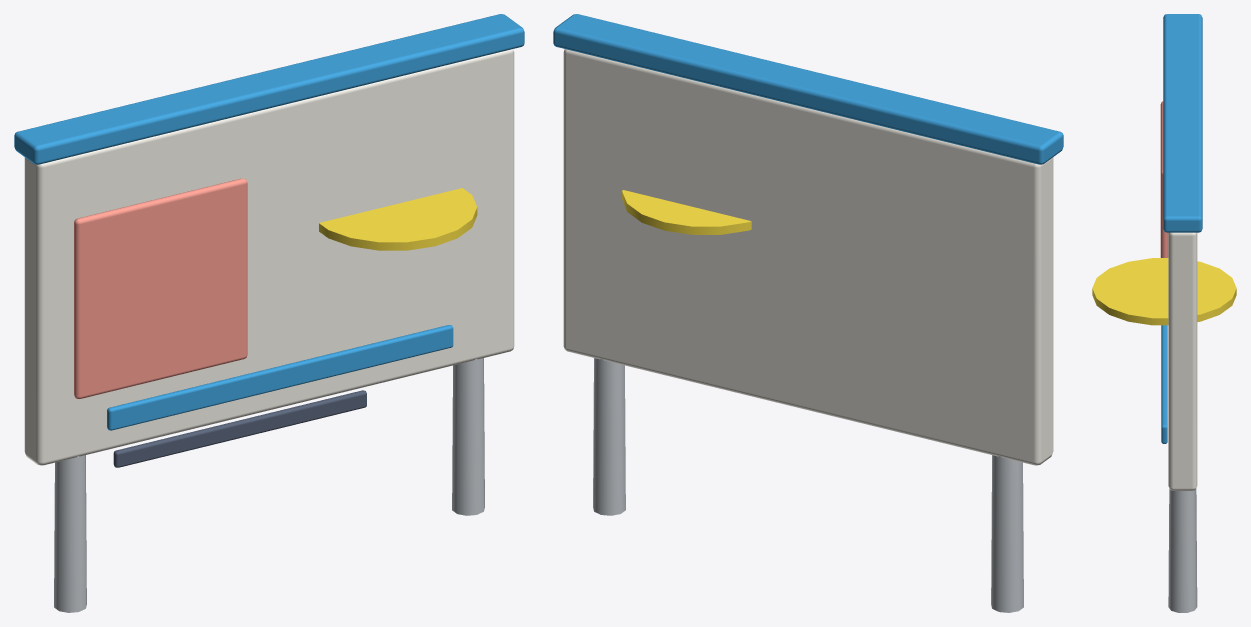
File: hero-shooter-harbour-payload-mural-billboard-panel-6fdadd3c__27718.glb
3 renders of one model, left to right at view 1: azimuth 30°, elevation 25°; view 2: azimuth 150°, elevation 25°; view 3: azimuth 270°, elevation 25°, orthographic. The views are drawn at different scales.
Visible parts, largest first — view 1: mural-billboard-panel; view 2: mural-billboard-panel; view 3: mural-billboard-panel.
Boxes of the visible parts, x1,y1,x2,y2 form: mural-billboard-panel: [14, 14, 524, 612]; mural-billboard-panel: [553, 14, 1063, 612]; mural-billboard-panel: [1092, 14, 1236, 612].
Bounding box in the file's own units: 3.7 × 3.44 × 1.1.
